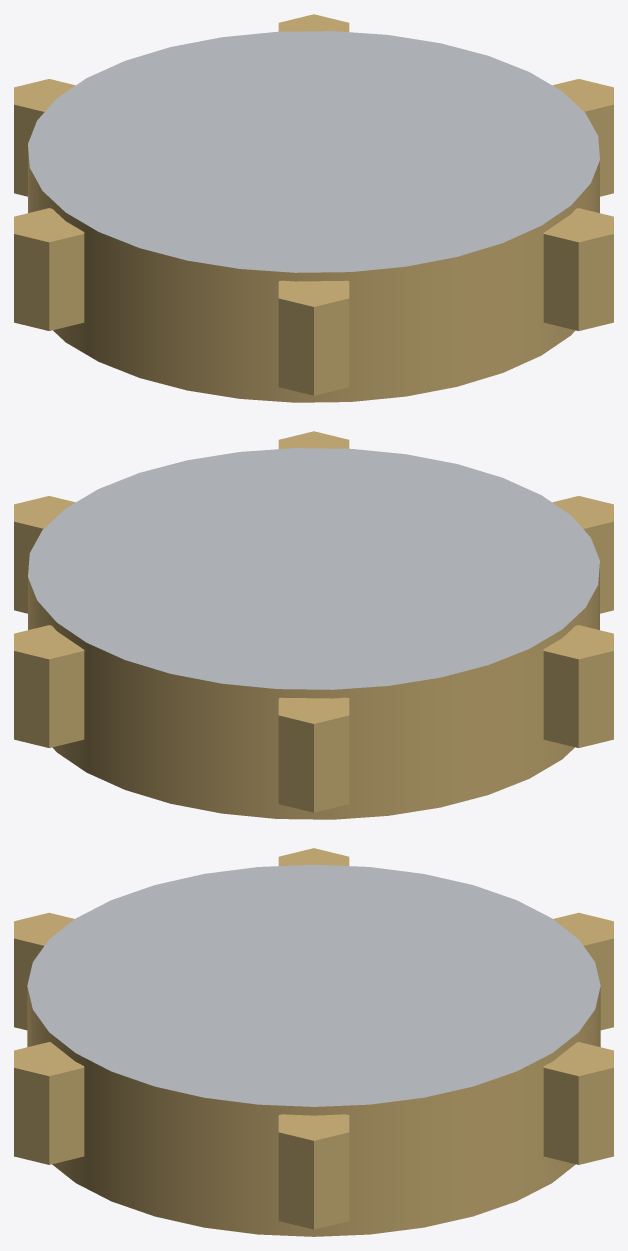
3 views of the same model, one above another, from view 1: azimuth 30°, elevation 25°; view 2: azimuth 150°, elevation 25°; view 3: azimuth 270°, elevation 25° (orthographic).
Visible parts, largest first — view 1: ratchet_6-30; view 2: ratchet_6-30; view 3: ratchet_6-30.
Boxes of the visible parts, bbox=[...] form: ratchet_6-30: bbox=[14, 14, 613, 402]; ratchet_6-30: bbox=[14, 431, 613, 819]; ratchet_6-30: bbox=[14, 848, 613, 1236].
Size of the model in its own units: 14.5 by 3 by 12.56.
